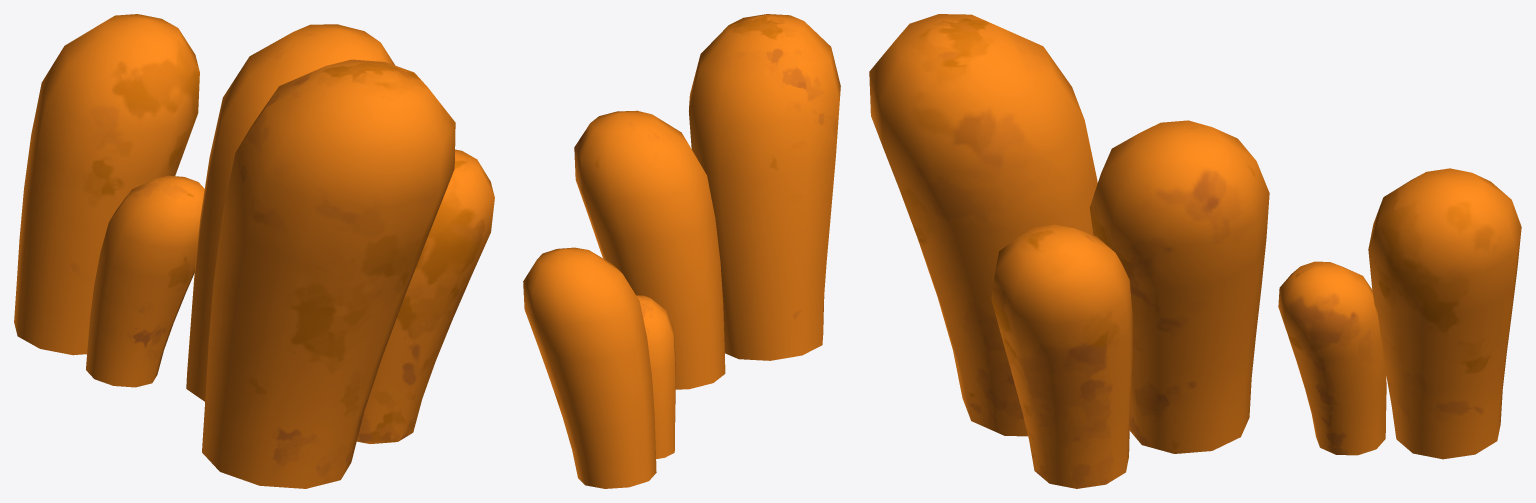
The model's file is hierba naranja.fbx.
3 views of the same model, side by side, from view 1: azimuth 30°, elevation 25°; view 2: azimuth 150°, elevation 25°; view 3: azimuth 270°, elevation 25° (orthographic). The views are drawn at different scales.
Visible parts, largest first — view 1: Sphere.055, Sphere.086; view 2: Sphere.055, Sphere.086; view 3: Sphere.055, Sphere.086.
Part boxes in pixels (<box>): Sphere.055: <box>186,24,494,488</box>; Sphere.086: <box>14,14,204,387</box>; Sphere.055: <box>574,14,840,389</box>; Sphere.086: <box>523,247,675,488</box>; Sphere.055: <box>869,14,1269,488</box>; Sphere.086: <box>1278,168,1521,459</box>.
Bounding box in the file's own units: 60.3 × 90.21 × 123.
